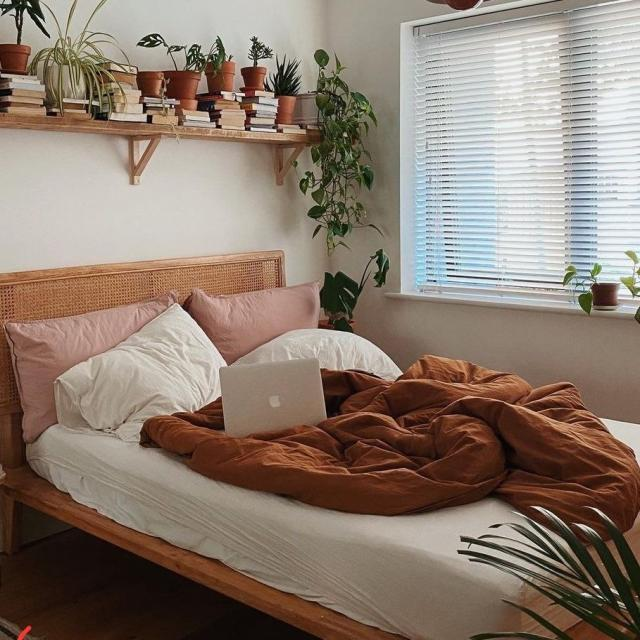bed: (0, 247, 640, 640)
